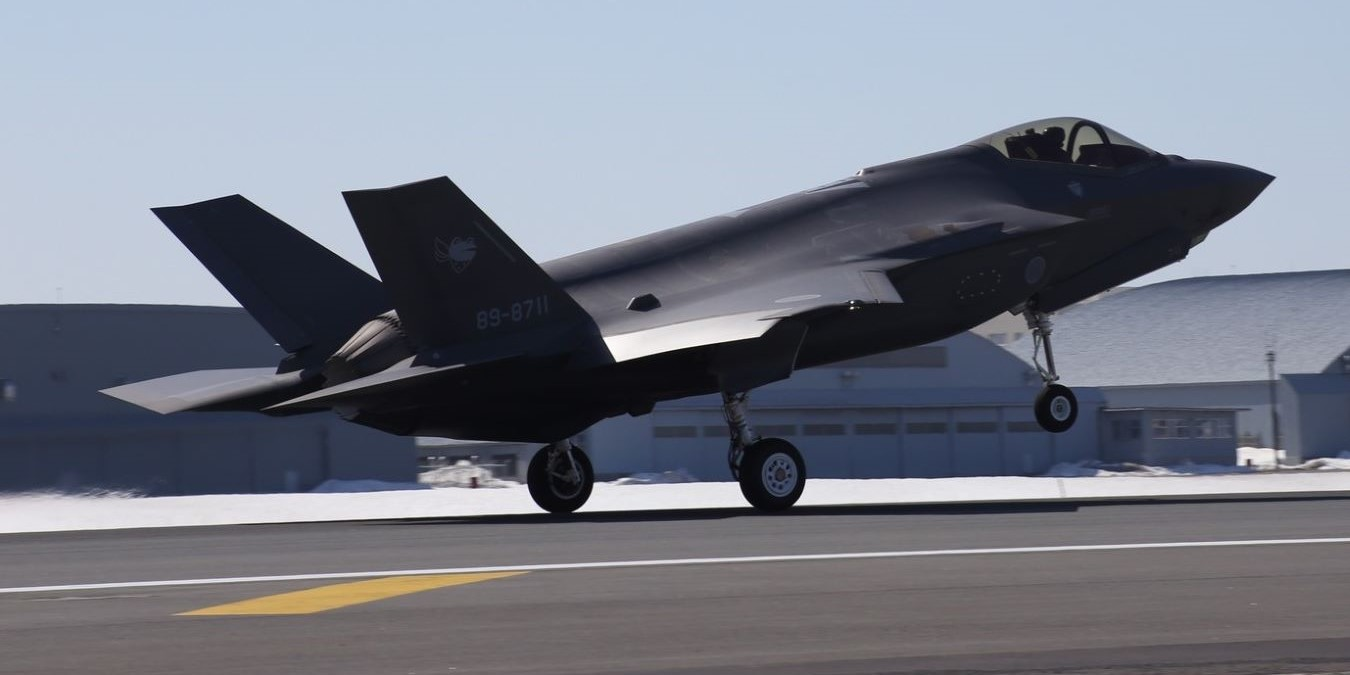F35: (93, 113, 1282, 517)
